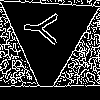Y: (23, 10, 66, 47)
